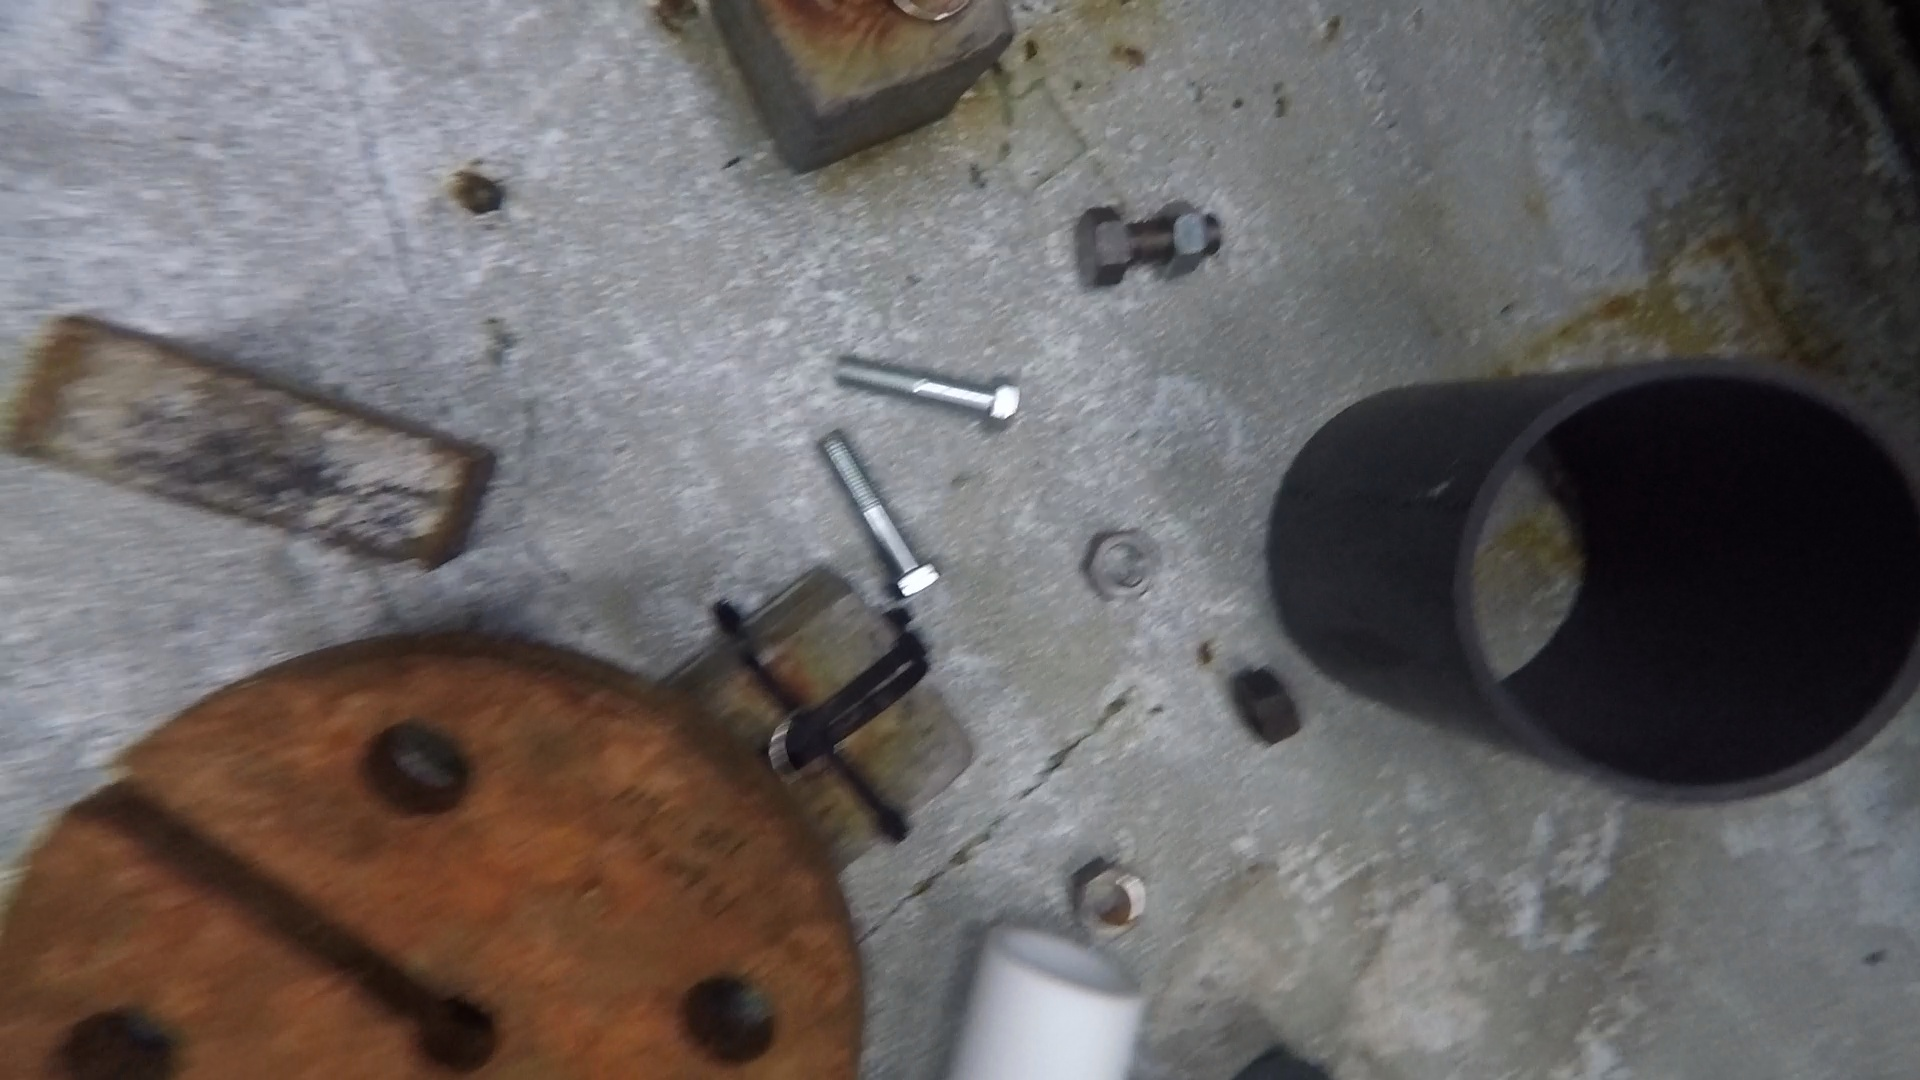bolt: (822, 430, 944, 601), (836, 356, 1021, 431), (1054, 204, 1220, 287)
flange: (495, 645, 861, 1080)
led_block: (3, 313, 496, 572), (659, 567, 973, 873), (713, 1, 1015, 178)
nut: (1072, 856, 1147, 943), (1083, 529, 1156, 600), (1240, 669, 1302, 746), (1159, 200, 1207, 284)
pipe: (1266, 357, 1919, 808), (948, 922, 1149, 1080)
